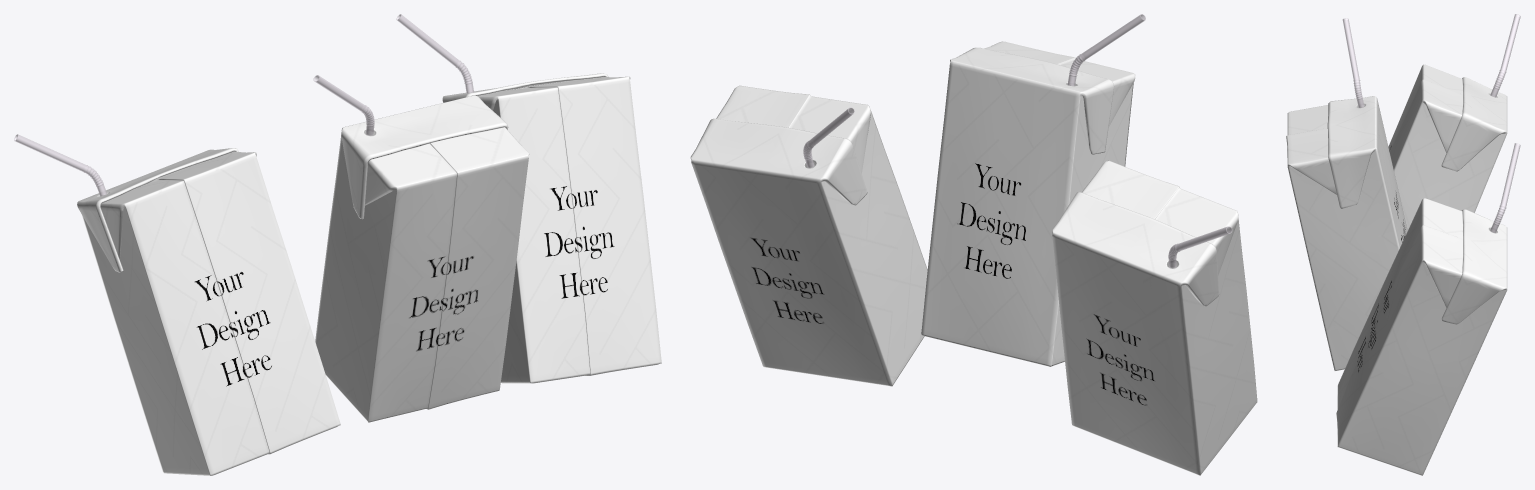
The model's file is Beverage A-6.glb.
The picture shows the model from 3 angles, left to right: view 1: azimuth 30°, elevation 25°; view 2: azimuth 150°, elevation 25°; view 3: azimuth 270°, elevation 25°; orthographic projection. The views are drawn at different scales.
Visible parts, largest first — view 1: Object_2, Object_2.002, Object_2.004, Object_3, Object_3.002, Object_3.001; view 2: Object_2.004, Object_2, Object_2.002, Object_3.001, Object_3, Object_3.002; view 3: Object_2.004, Object_2.002, Object_2, Object_3.002, Object_3.001, Object_3.
Part boxes in pixels (x1,y1,x2,y2): Object_2: [77, 148, 340, 475]; Object_2.002: [315, 95, 529, 422]; Object_2.004: [442, 73, 661, 383]; Object_3: [14, 134, 106, 196]; Object_3.002: [396, 14, 473, 93]; Object_3.001: [313, 75, 374, 135]; Object_2.004: [690, 85, 927, 386]; Object_2: [1052, 160, 1257, 475]; Object_2.002: [921, 41, 1135, 366]; Object_3.001: [1067, 14, 1145, 85]; Object_3: [1168, 226, 1232, 268]; Object_3.002: [803, 107, 854, 168]; Object_2.004: [1336, 198, 1507, 475]; Object_2.002: [1286, 96, 1407, 370]; Object_2: [1388, 64, 1507, 230]; Object_3.002: [1490, 143, 1520, 232]; Object_3.001: [1342, 18, 1364, 107]; Object_3: [1490, 14, 1520, 97].
Size of the model in its own units: 32.03 by 22.19 by 14.37.
Materials: 3 (1 with a texture image).
